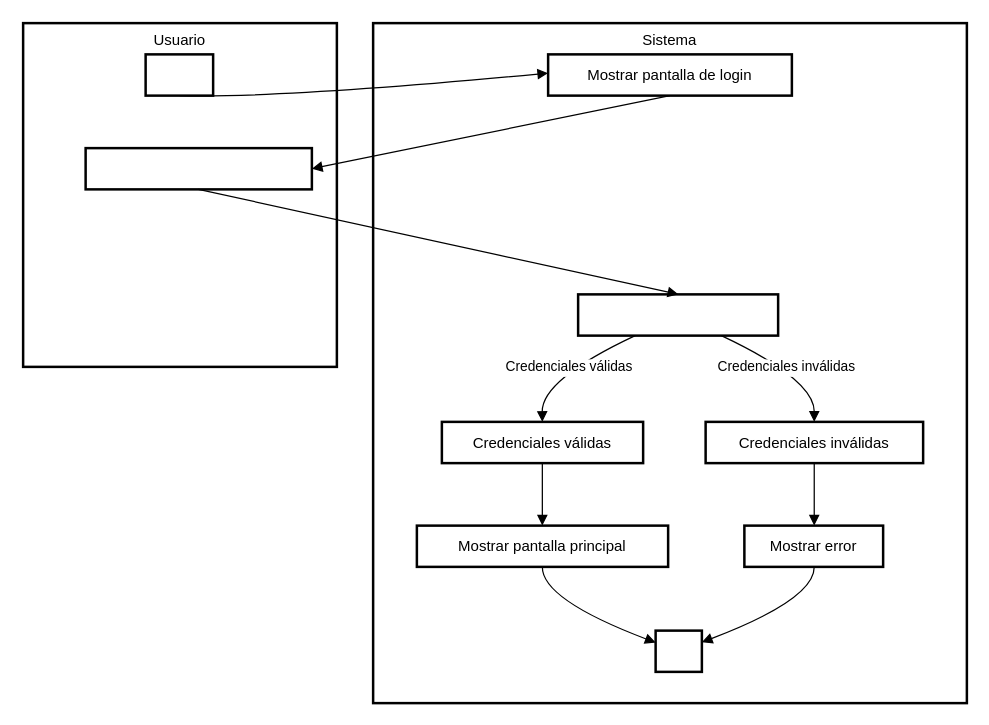
Image size: 989x725. Some labels were removed from this diagram. The centre of each missing label's shape, as x and y in pixels:
Fin: (x=678, y=650)
Inicio: (x=179, y=74)
Introducir credenciales: (x=198, y=168)
Validar credenciales: (x=677, y=314)
